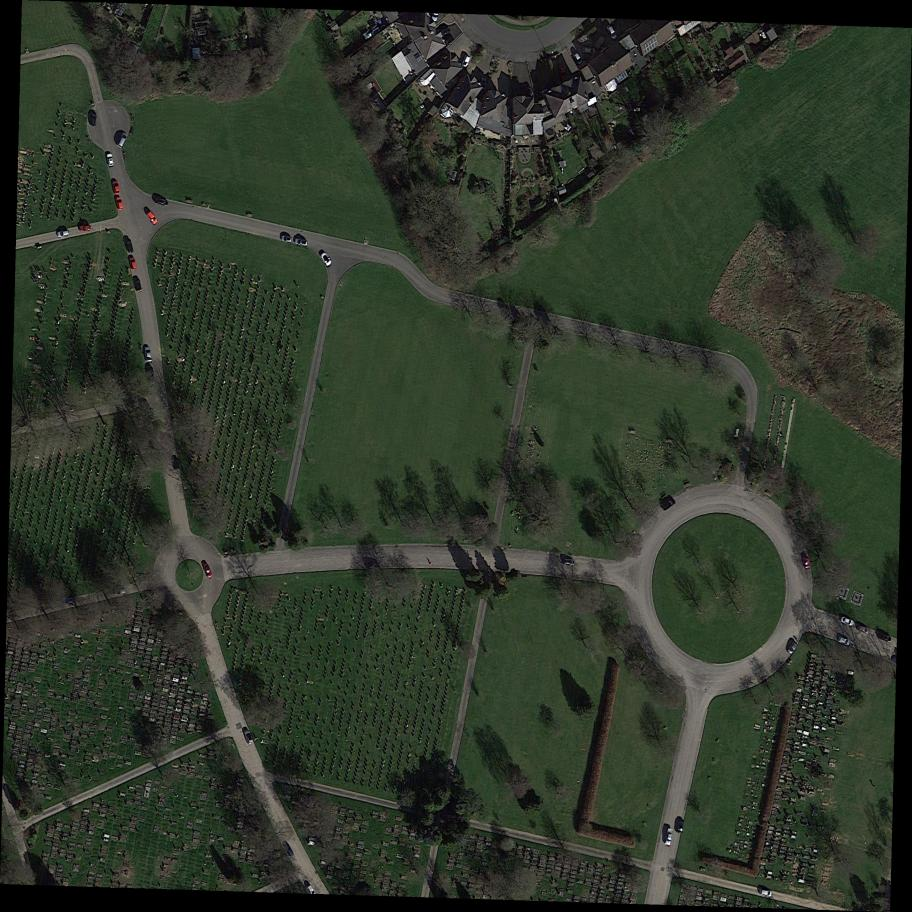small-vehicle: (660, 497, 677, 512), (116, 131, 129, 149), (145, 210, 159, 226), (606, 24, 619, 40), (243, 728, 255, 745), (320, 252, 333, 267), (877, 632, 893, 643), (146, 367, 155, 386), (786, 641, 798, 655), (840, 616, 855, 627), (124, 237, 134, 253), (293, 238, 309, 248), (837, 636, 851, 647), (133, 276, 142, 293), (143, 346, 152, 363), (111, 180, 121, 195), (170, 455, 179, 471), (203, 564, 213, 578), (115, 196, 124, 211), (128, 255, 137, 270), (306, 884, 317, 896), (284, 844, 294, 857), (759, 888, 773, 897), (154, 198, 169, 206), (573, 52, 583, 64), (106, 153, 114, 167), (858, 625, 870, 634), (461, 56, 470, 68), (362, 560, 377, 567), (665, 833, 673, 846), (90, 112, 97, 126), (677, 820, 684, 834), (280, 235, 292, 243), (562, 559, 575, 566), (559, 64, 565, 79), (804, 557, 810, 570), (57, 231, 69, 237), (80, 225, 91, 231)
